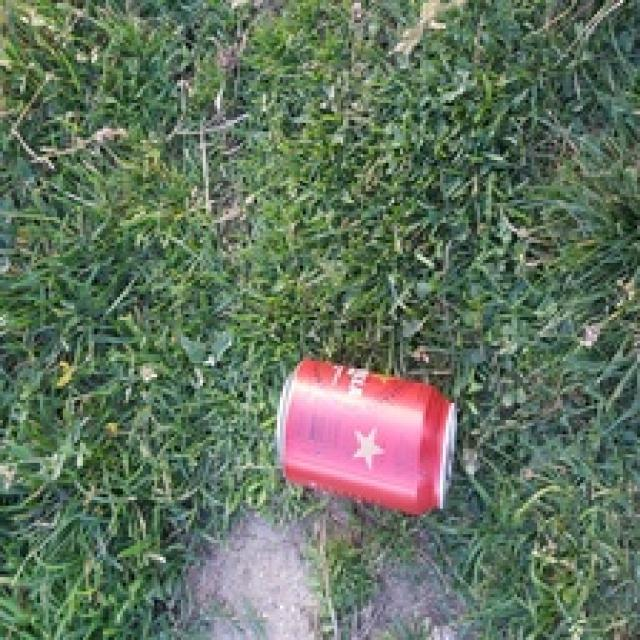recyclable: (272, 358, 458, 513)
